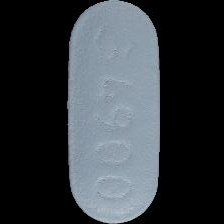59762-4900: (0, 0, 224, 224)
